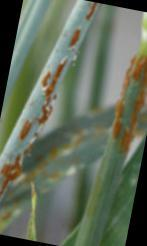Wheat: (16, 61, 70, 141), (108, 50, 147, 158), (1, 155, 22, 182)
